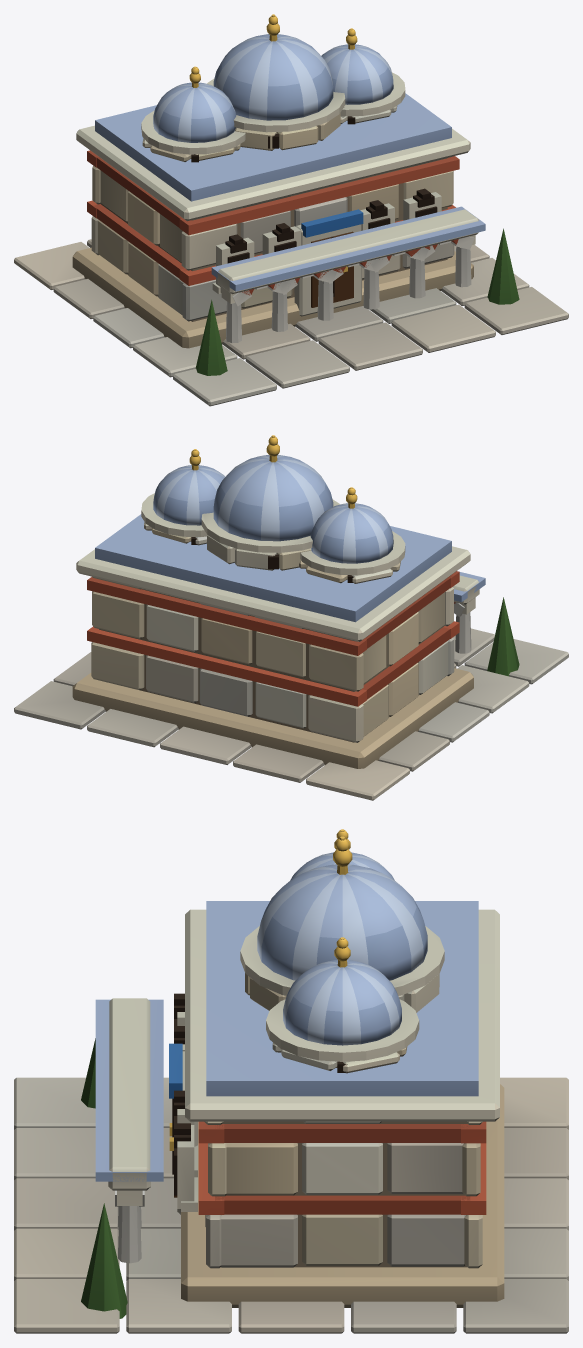
Rendered from b_hospital.glb.
3 views of the same model, one above another, from view 1: azimuth 30°, elevation 25°; view 2: azimuth 150°, elevation 25°; view 3: azimuth 270°, elevation 25° (orthographic). The views are drawn at different scales.
Parts seen in each view (by area): view 1: b_hospital, L3, L2; view 2: b_hospital, L3, L2; view 3: b_hospital, L3, L2.
Boxes of the visible parts, left/top/right/bottom form: b_hospital: left=14, top=28, right=568, bottom=406; L3: left=195, top=14, right=519, bottom=375; L2: left=211, top=206, right=485, bottom=343; b_hospital: left=14, top=449, right=568, bottom=800; L3: left=201, top=435, right=519, bottom=676; L2: left=453, top=572, right=485, bottom=653; b_hospital: left=14, top=829, right=568, bottom=1333; L3: left=81, top=836, right=444, bottom=1318; L2: left=95, top=998, right=163, bottom=1263.
Size of the model in its own units: 0.692 by 0.483 by 0.652.
